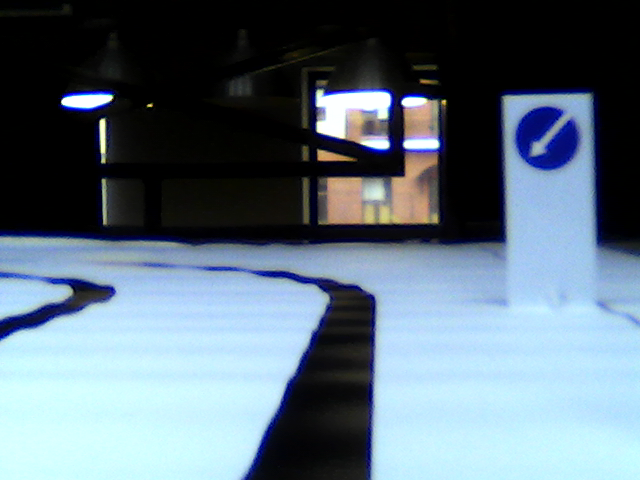prep: (516, 105, 581, 171)
